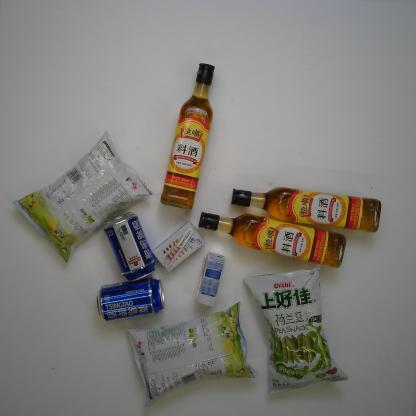Alcohol: (102, 208, 157, 283), (95, 274, 168, 325)
Milk: (151, 218, 207, 273), (195, 250, 226, 308)
Puffed Food: (9, 130, 158, 265), (126, 300, 260, 409), (243, 262, 350, 395)
Seasoner: (195, 207, 350, 268), (157, 62, 216, 211), (228, 184, 387, 235)
